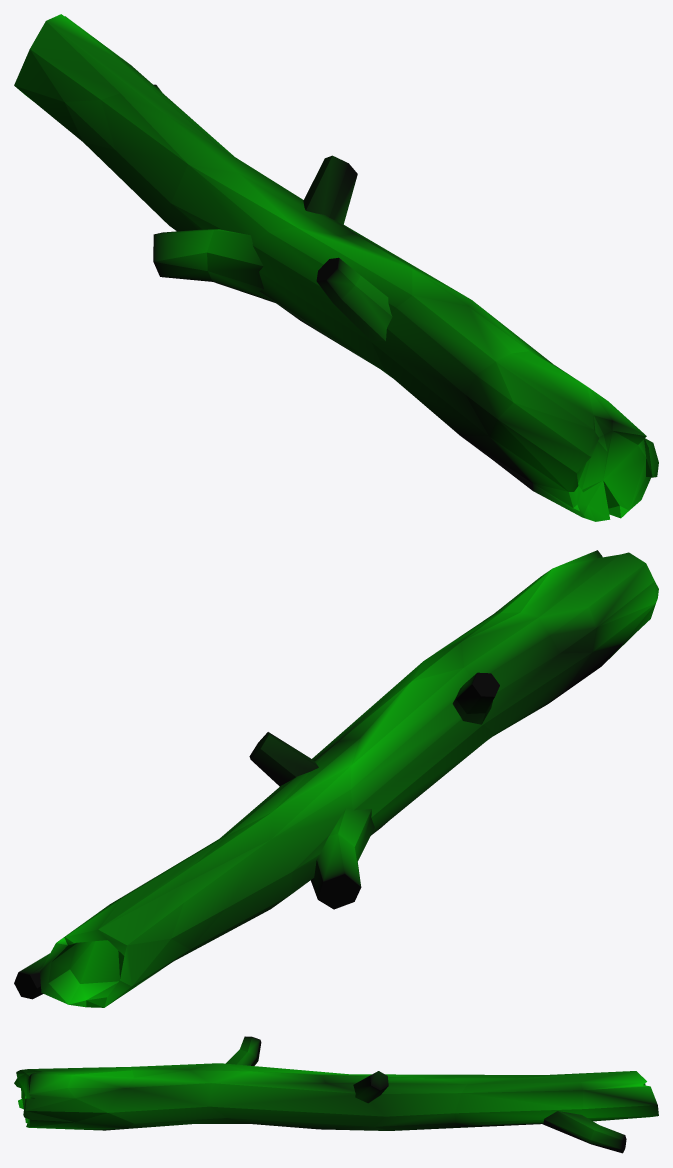
Rendered from SM_Collision_FirFallen1.fbx.
3 views of the same model, one above another, from view 1: azimuth 30°, elevation 25°; view 2: azimuth 150°, elevation 25°; view 3: azimuth 270°, elevation 25° (orthographic). The views are drawn at different scales.
Visible parts, largest first — view 1: Collision_FirFallen1; view 2: Collision_FirFallen1; view 3: Collision_FirFallen1.
Boxes of the visible parts, x1,y1,x2,y2 form: Collision_FirFallen1: (14,14,658,521); Collision_FirFallen1: (14,550,658,1007); Collision_FirFallen1: (14,1036,658,1153).
Size of the model in its own units: 187 by 991 by 129.
